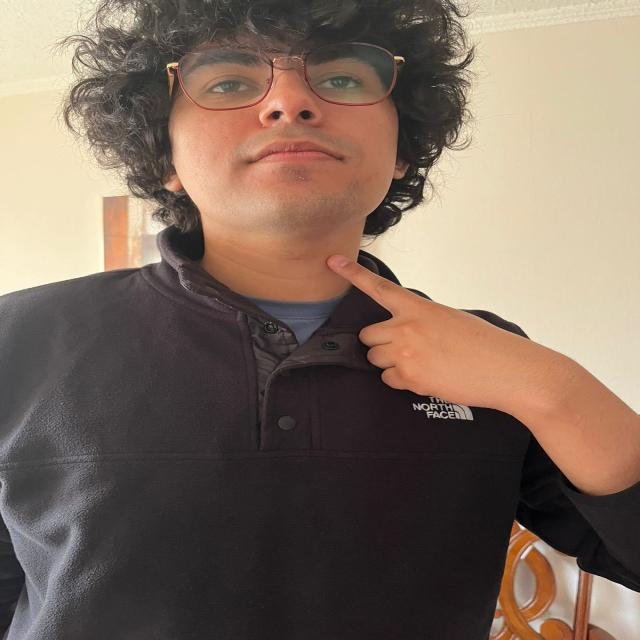Q: (313, 244, 571, 425)
